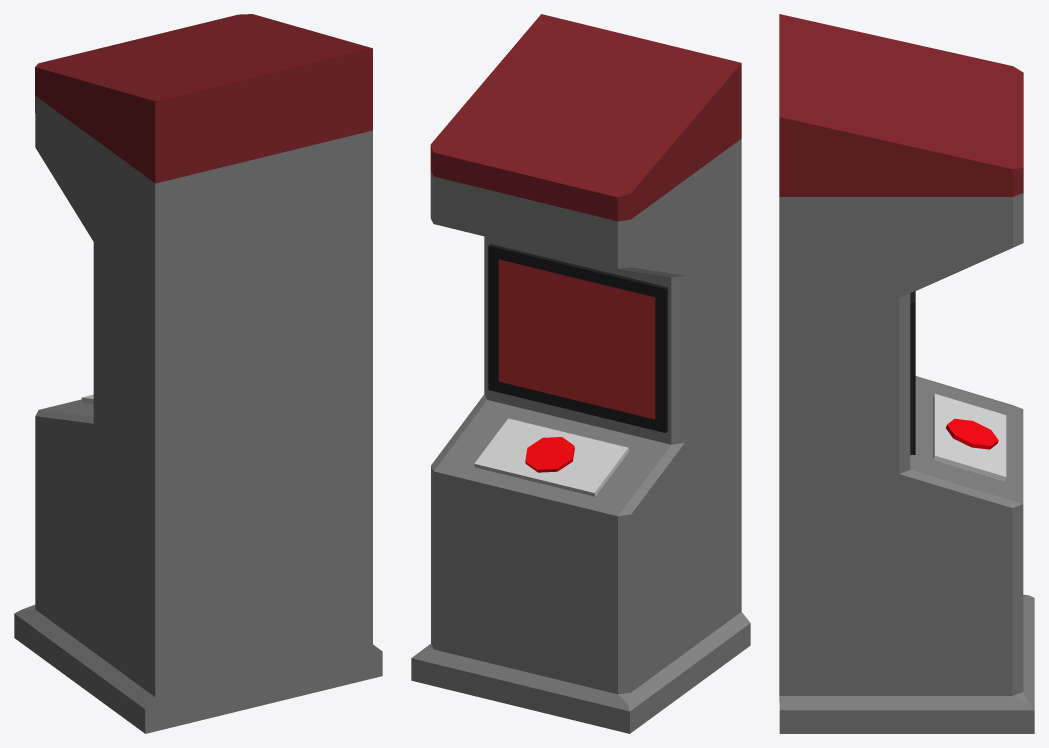
Rendered from DoorOpener.fbx.
The picture shows the model from 3 angles, left to right: view 1: azimuth 30°, elevation 25°; view 2: azimuth 150°, elevation 25°; view 3: azimuth 270°, elevation 25°; orthographic projection. The views are drawn at different scales.
Visible parts, largest first — view 1: Cube; view 2: Cube; view 3: Cube.
Boxes of the visible parts, x1,y1,x2,y2 form: Cube: [14, 14, 382, 733]; Cube: [411, 14, 750, 733]; Cube: [779, 14, 1034, 733].
Bounding box in the file's own units: 131 × 332 × 125.
